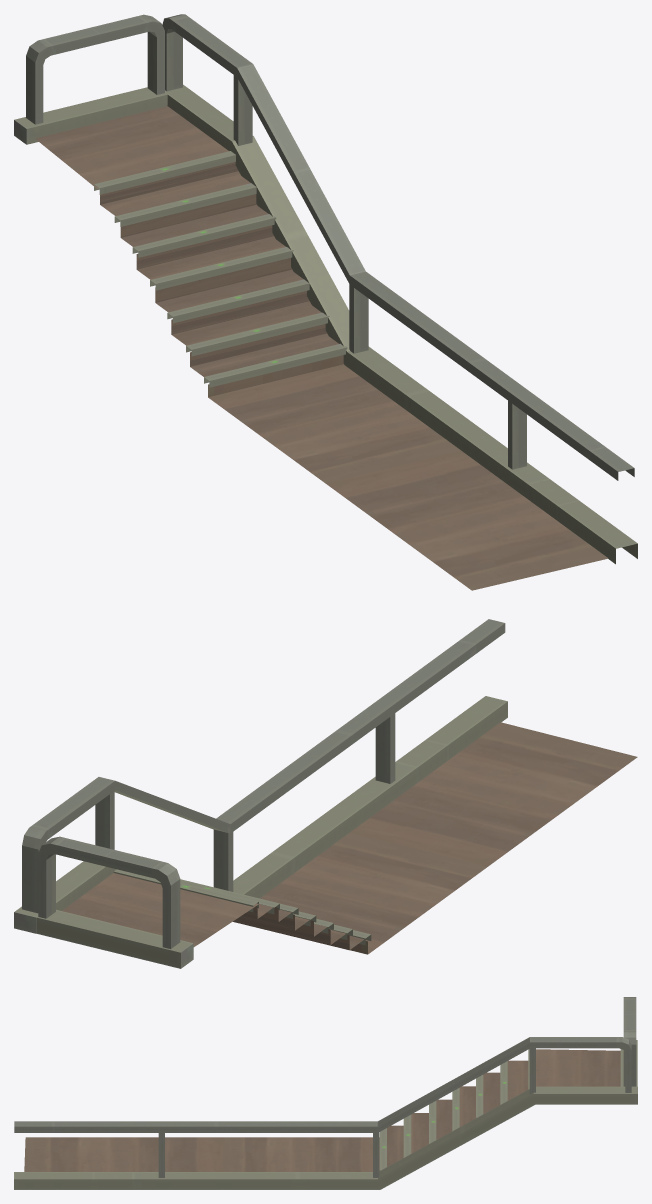
The model's file is pref_sm_city_riverwall08b_snow_lv3.fbx.
3 views of the same model, one above another, from view 1: azimuth 30°, elevation 25°; view 2: azimuth 150°, elevation 25°; view 3: azimuth 270°, elevation 25° (orthographic). The views are drawn at different scales.
Visible parts, largest first — view 1: pref_sm_city_riverwall08b_snow_lv3; view 2: pref_sm_city_riverwall08b_snow_lv3; view 3: pref_sm_city_riverwall08b_snow_lv3.
Boxes of the visible parts, bbox=[...] form: pref_sm_city_riverwall08b_snow_lv3: bbox=[14, 14, 637, 590]; pref_sm_city_riverwall08b_snow_lv3: bbox=[14, 619, 637, 968]; pref_sm_city_riverwall08b_snow_lv3: bbox=[14, 997, 637, 1189].
Bounding box in the file's own units: 3.07 × 3.9 × 15.03.
